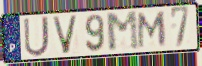7: (169, 4, 191, 51)
9: (84, 13, 106, 54)
M: (104, 10, 142, 53), (137, 10, 167, 49)
U: (22, 15, 51, 59)
V: (50, 14, 80, 56)
